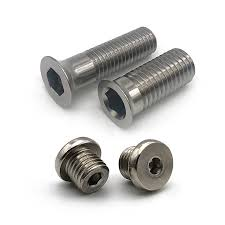TORNILLOS: (28, 18, 201, 207)
